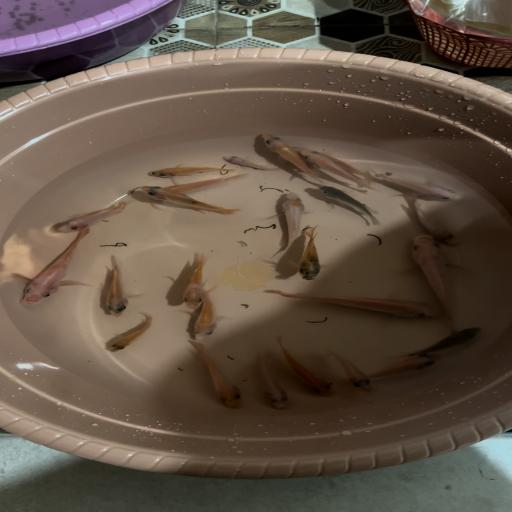nila: (254, 282, 446, 326), (394, 234, 475, 328), (12, 230, 91, 310), (168, 341, 248, 411), (266, 336, 344, 396), (386, 196, 466, 249), (253, 131, 319, 186), (370, 169, 466, 206), (394, 323, 484, 362), (137, 183, 240, 216), (310, 184, 382, 228), (249, 354, 299, 414), (100, 309, 158, 356), (54, 200, 130, 235), (300, 149, 368, 188), (269, 191, 308, 259), (179, 288, 227, 343), (324, 348, 381, 394), (171, 253, 215, 310), (372, 352, 442, 385), (293, 226, 331, 284), (95, 255, 128, 320), (319, 142, 373, 177), (146, 161, 232, 181), (170, 173, 244, 194), (222, 154, 280, 173)
